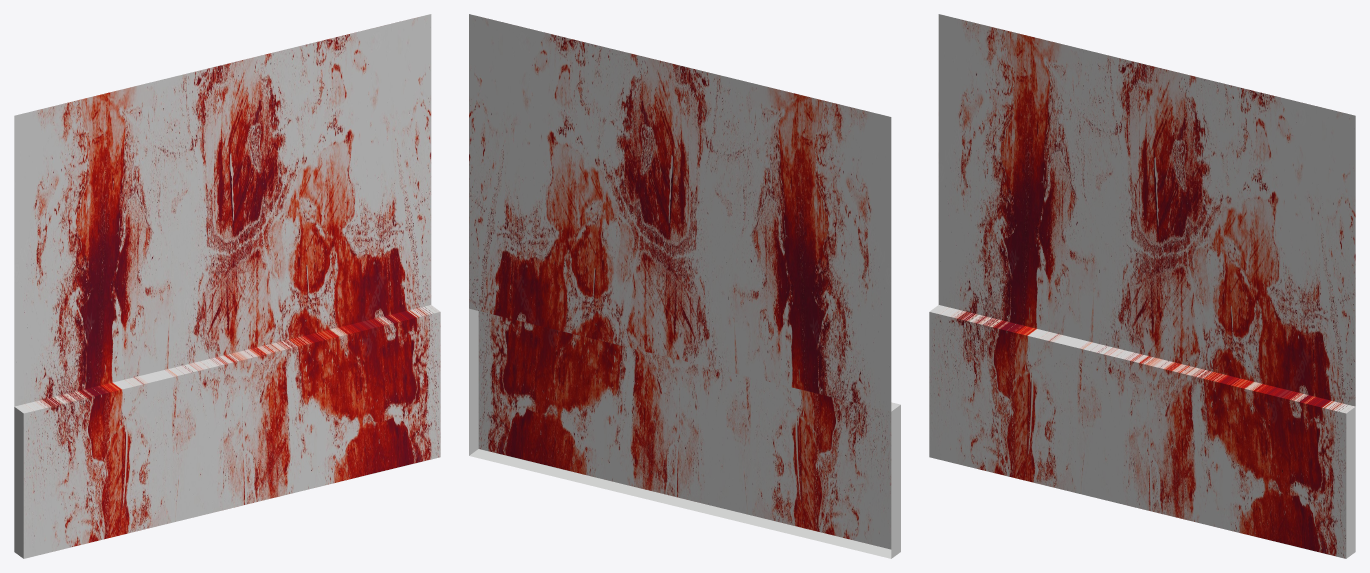
Rendered from Marco_14.fbx.
3 views of the same model, side by side, from view 1: azimuth 30°, elevation 25°; view 2: azimuth 150°, elevation 25°; view 3: azimuth 330°, elevation 25° (orthographic).
Visible parts, largest first — view 1: Plane.019; view 2: Plane.019; view 3: Plane.019.
Boxes of the visible parts, x1,y1,x2,y2 form: Plane.019: (14, 14, 440, 558); Plane.019: (469, 14, 900, 558); Plane.019: (929, 14, 1355, 558).
Size of the model in its own units: 600 by 600 by 23.63.
